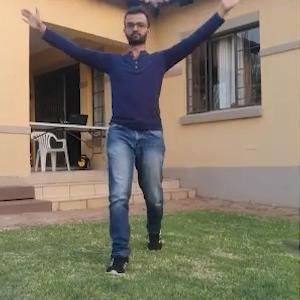takeoff: (14, 0, 227, 271)
